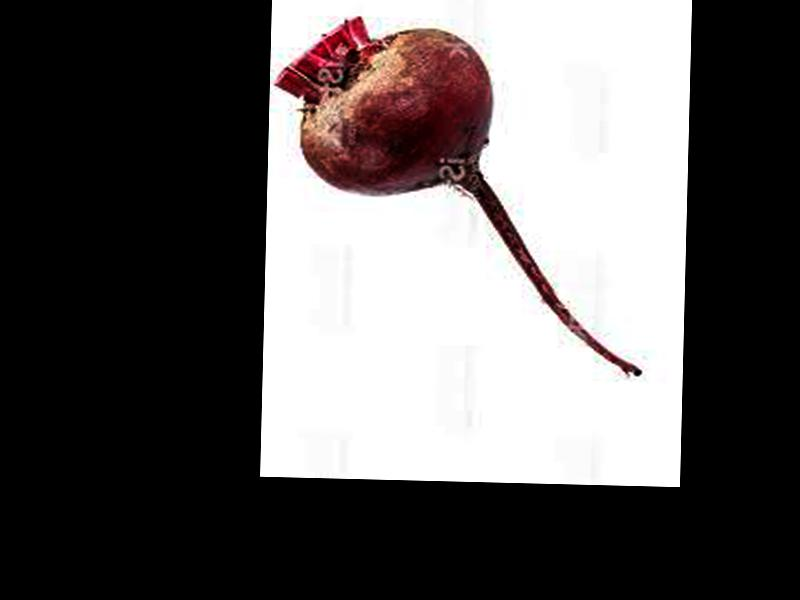Beet: (267, 17, 648, 376)
